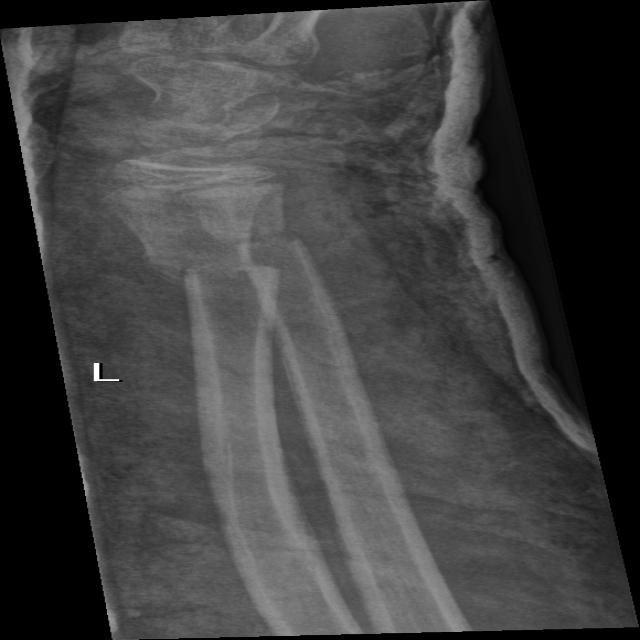radius fracture: (112, 222, 301, 362)
